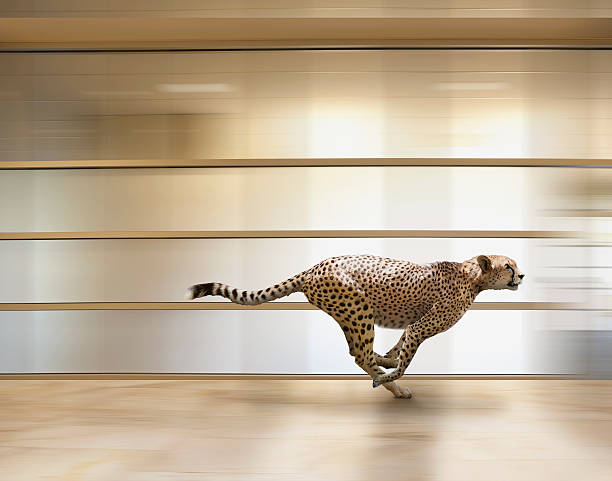cheetah: (471, 248, 527, 306)
